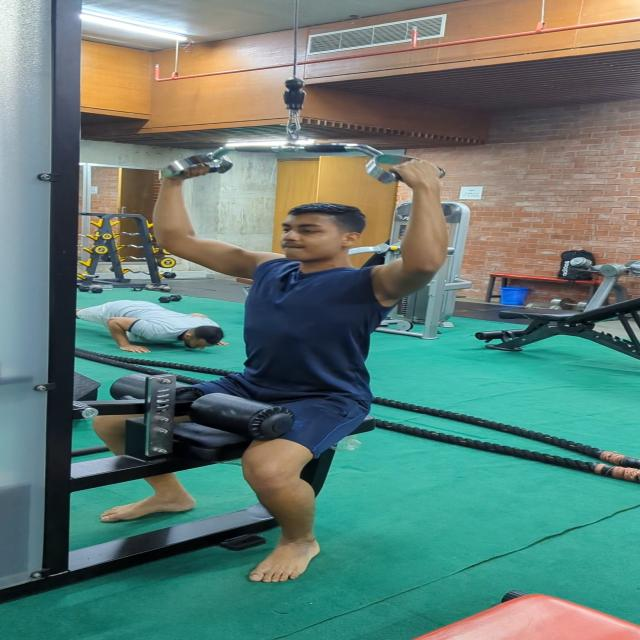Normal_LatPulldown: (139, 152, 474, 575)
